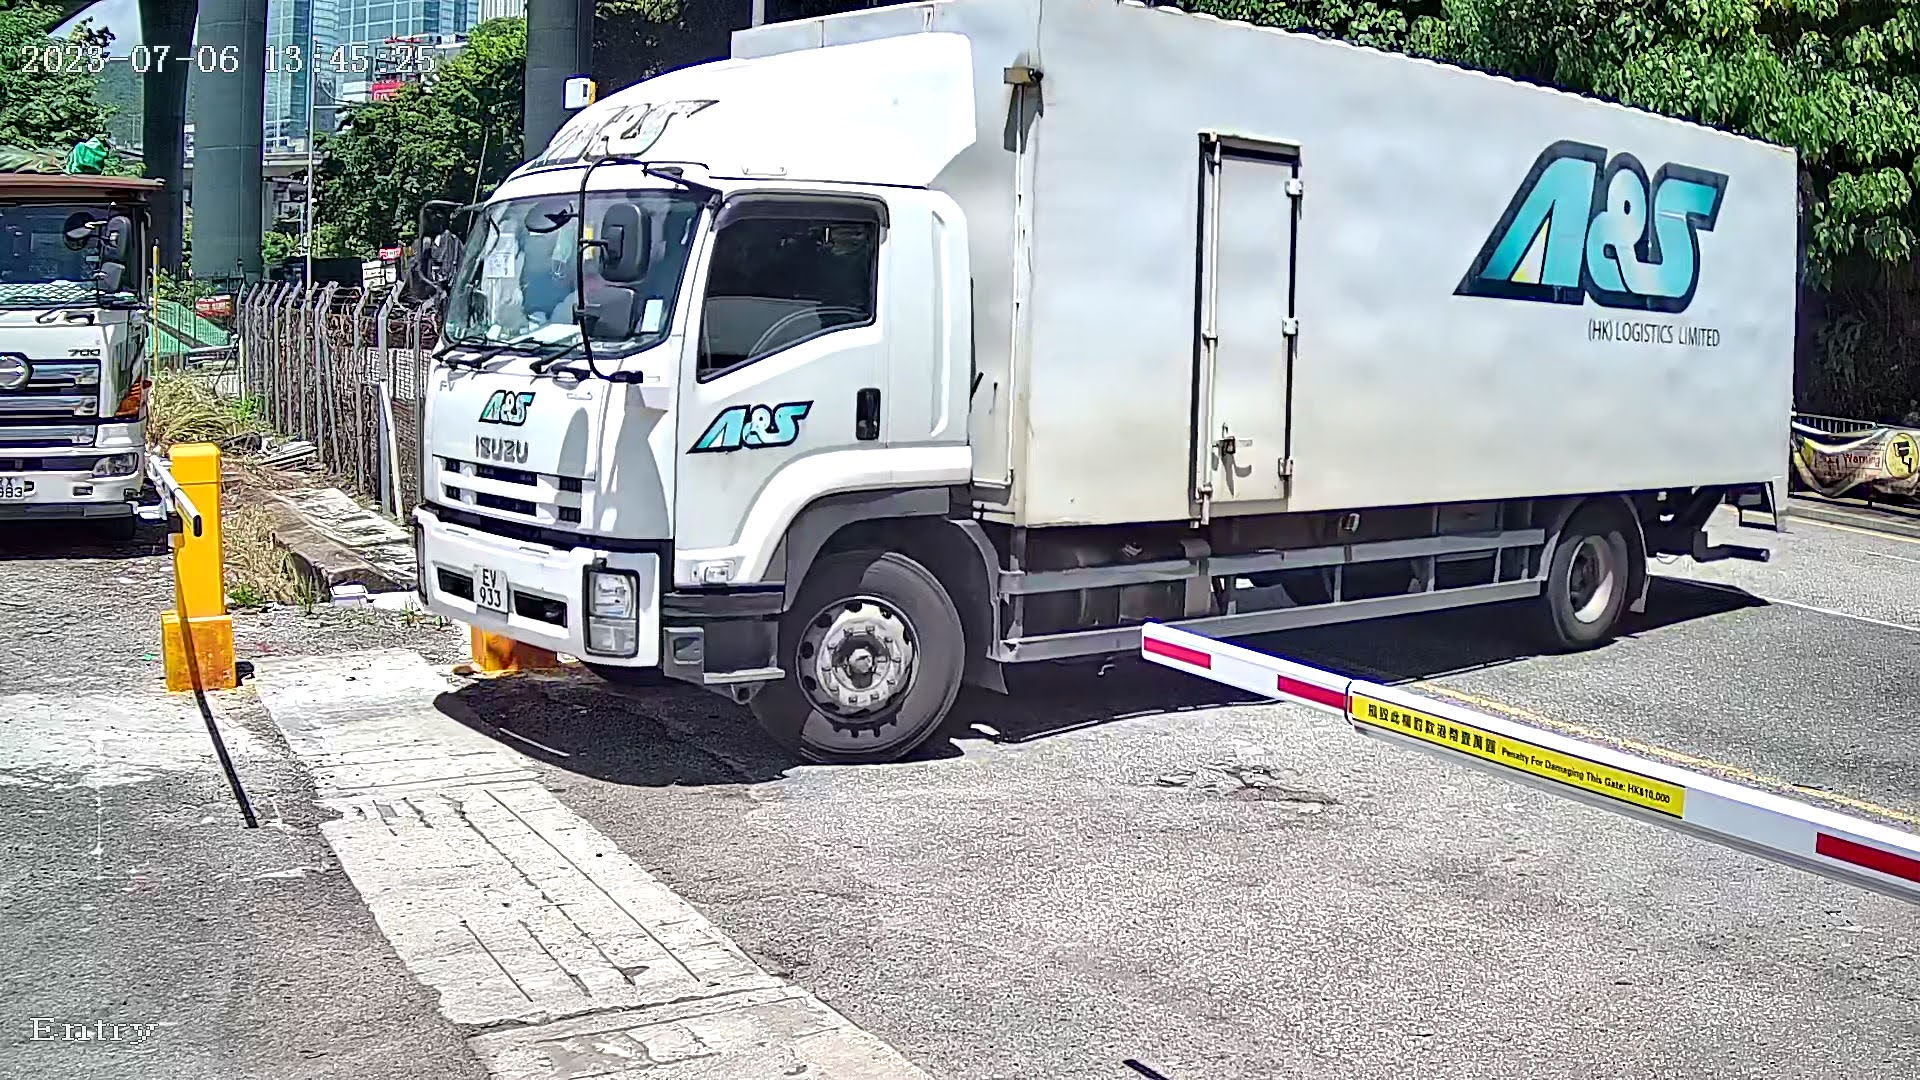truck_large: (409, 1, 1833, 756)
